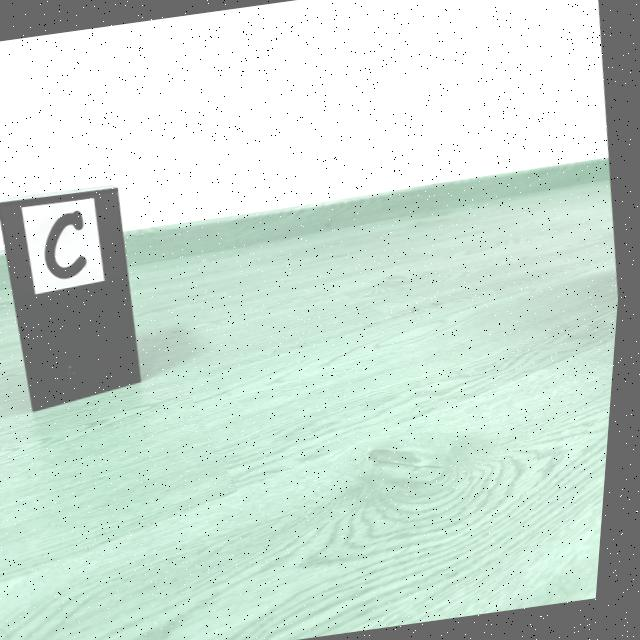C: (48, 210, 91, 279)
